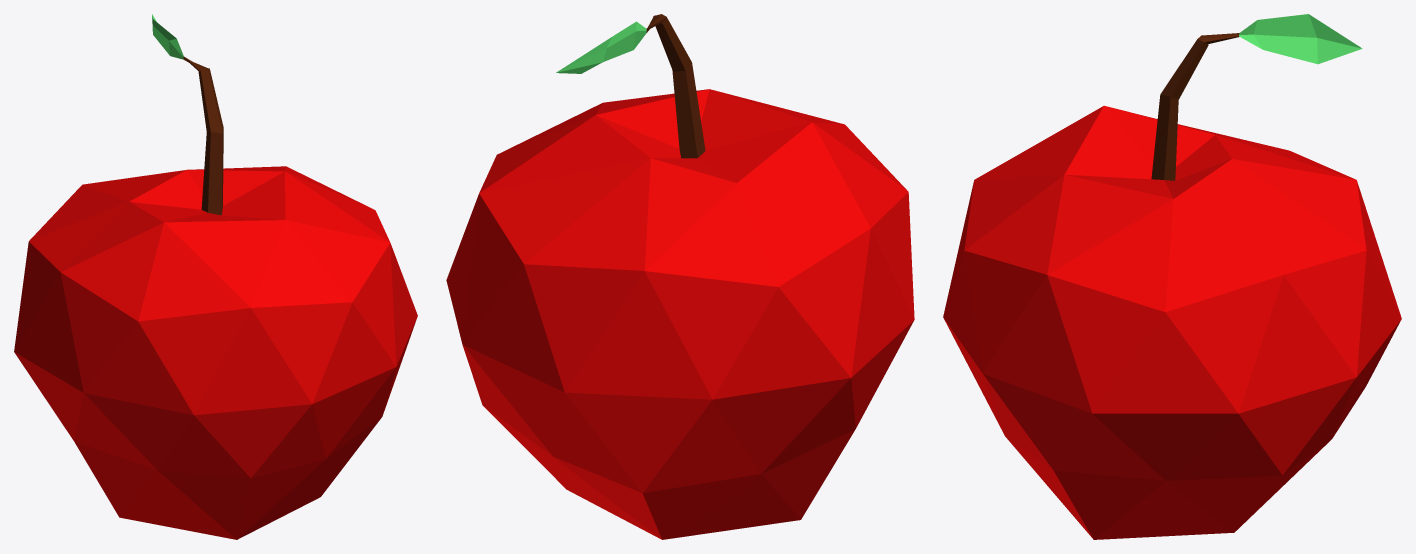
Rendered from Apple.fbx.
3 renders of one model, left to right at view 1: azimuth 30°, elevation 25°; view 2: azimuth 150°, elevation 25°; view 3: azimuth 270°, elevation 25°, orthographic. The views are drawn at different scales.
Visible parts, largest first — view 1: Apple_LOD0; view 2: Apple_LOD0; view 3: Apple_LOD0.
Boxes of the visible parts, box(x1,y1,x2,y2) form: Apple_LOD0: box(14, 14, 417, 539); Apple_LOD0: box(446, 14, 914, 539); Apple_LOD0: box(943, 14, 1401, 539).
Size of what is drawn, in the model's own units: 188 by 243 by 194.
